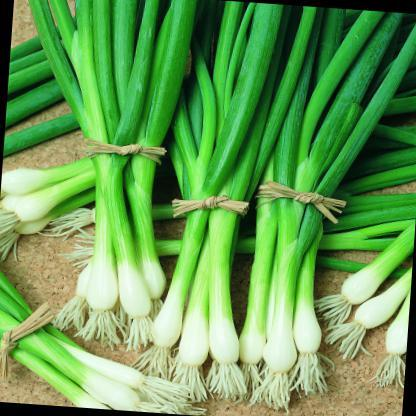onion: (144, 308, 245, 366)
